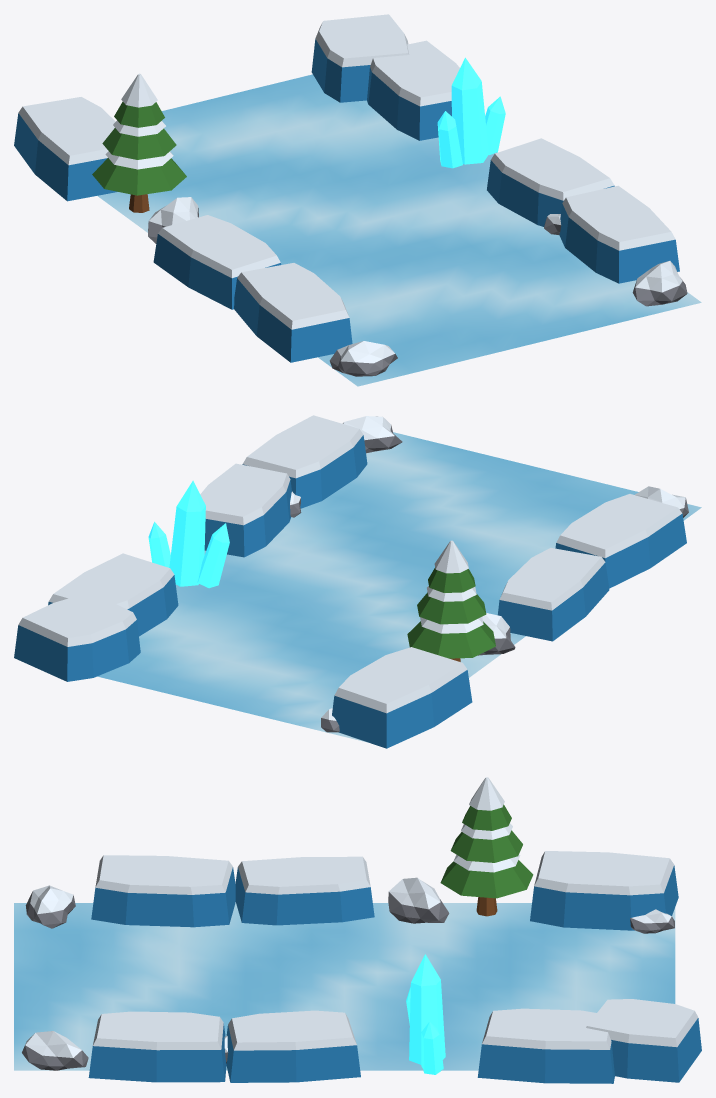
Rendered from field-ice.glb.
3 views of the same model, one above another, from view 1: azimuth 30°, elevation 25°; view 2: azimuth 150°, elevation 25°; view 3: azimuth 270°, elevation 25° (orthographic). The views are drawn at different scales.
Parts seen in each view (by area): view 1: Ice_Ground, Ice_Bank_L1, Ice_Bank_R1, Ice_Bank_L3, Ice_Pine_L, Ice_Bank_L2, Ice_Bank_R2, Ice_Bank_R3, Ice_Bank_R4, Ice_Crystal_R, Ice_Rock_BL, Ice_Rock_BR (+1 smaller); view 2: Ice_Ground, Ice_Bank_L3, Ice_Bank_R4, Ice_Bank_L2, Ice_Bank_L1, Ice_Bank_R1, Ice_Pine_L, Ice_Bank_R2, Ice_Bank_R3, Ice_Crystal_R, Ice_Rock_BR, Ice_Rock_LM (+1 smaller); view 3: Ice_Ground, Ice_Bank_L3, Ice_Bank_L1, Ice_Bank_R1, Ice_Bank_R3, Ice_Bank_R2, Ice_Bank_L2, Ice_Bank_R4, Ice_Pine_L, Ice_Crystal_R, Ice_Rock_LM, Ice_Rock_BR (+2 smaller).
Part boxes in pixels (bbox=[...]): Ice_Ground: bbox=[97, 74, 701, 386]; Ice_Bank_L1: bbox=[234, 263, 352, 362]; Ice_Bank_R1: bbox=[559, 185, 679, 283]; Ice_Bank_L3: bbox=[14, 97, 117, 201]; Ice_Pine_L: bbox=[92, 73, 186, 212]; Ice_Bank_L2: bbox=[153, 215, 281, 309]; Ice_Bank_R2: bbox=[487, 138, 614, 226]; Ice_Bank_R3: bbox=[367, 40, 459, 140]; Ice_Bank_R4: bbox=[311, 14, 409, 102]; Ice_Crystal_R: bbox=[437, 57, 505, 168]; Ice_Rock_BL: bbox=[329, 341, 397, 376]; Ice_Rock_BR: bbox=[632, 261, 687, 306]; Ice_Ground: bbox=[97, 432, 701, 742]; Ice_Bank_L3: bbox=[332, 647, 472, 748]; Ice_Bank_R4: bbox=[14, 592, 140, 681]; Ice_Bank_L2: bbox=[497, 548, 609, 641]; Ice_Bank_L1: bbox=[555, 494, 686, 588]; Ice_Bank_R1: bbox=[242, 415, 367, 508]; Ice_Pine_L: bbox=[407, 540, 495, 661]; Ice_Bank_R2: bbox=[200, 463, 291, 557]; Ice_Bank_R3: bbox=[48, 553, 178, 636]; Ice_Crystal_R: bbox=[148, 480, 229, 588]; Ice_Rock_BR: bbox=[342, 416, 402, 453]; Ice_Rock_LM: bbox=[478, 613, 515, 655]; Ice_Ground: bbox=[14, 903, 675, 1070]; Ice_Bank_L3: bbox=[530, 851, 678, 930]; Ice_Bank_L1: bbox=[91, 855, 235, 927]; Ice_Bank_R1: bbox=[88, 1011, 226, 1082]; Ice_Bank_R3: bbox=[477, 1008, 614, 1083]; Ice_Bank_R2: bbox=[226, 1010, 360, 1082]; Ice_Bank_L2: bbox=[235, 856, 374, 925]; Ice_Bank_R4: bbox=[586, 999, 701, 1082]; Ice_Pine_L: bbox=[440, 777, 533, 916]; Ice_Crystal_R: bbox=[406, 954, 445, 1074]; Ice_Rock_LM: bbox=[388, 877, 449, 923]; Ice_Rock_BR: bbox=[22, 1031, 88, 1070].
Bounding box in the file's own units: 13.93 × 4.59 × 20.8.
